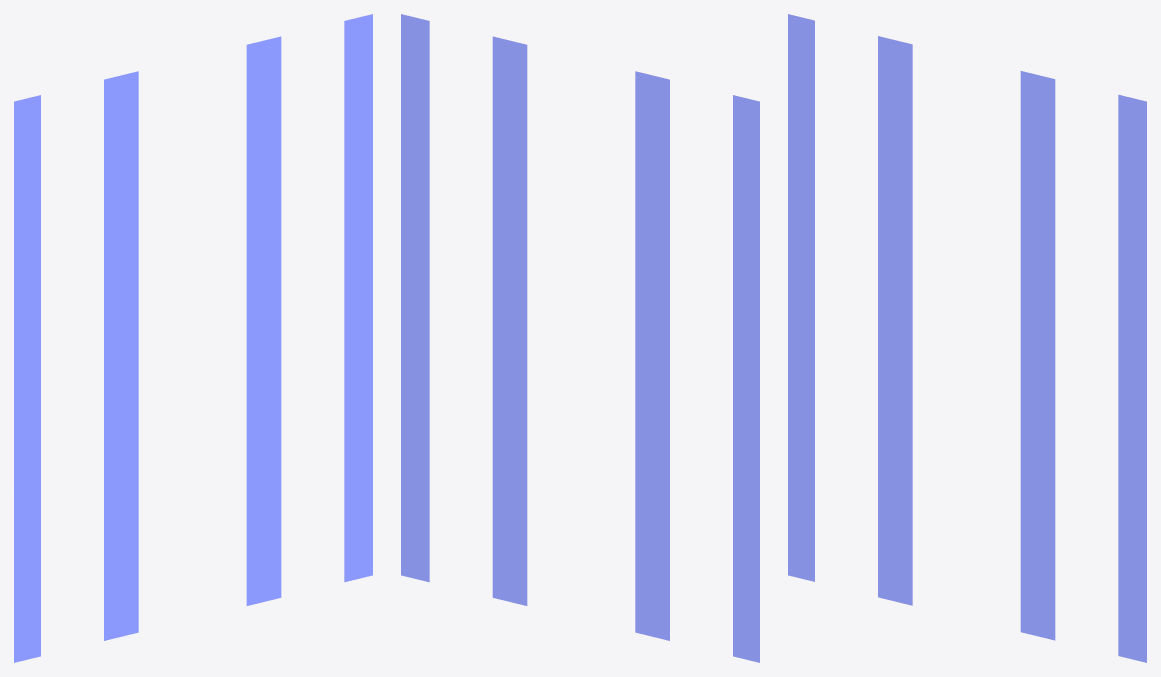
Rendered from entrecalles_selecc.glb.
The picture shows the model from 3 angles, left to right: view 1: azimuth 30°, elevation 25°; view 2: azimuth 150°, elevation 25°; view 3: azimuth 330°, elevation 25°; orthographic projection.
Visible parts, largest first — view 1: Entrecalles; view 2: Entrecalles; view 3: Entrecalles.
Boxes of the visible parts, bbox=[...] form: Entrecalles: bbox=[14, 14, 372, 662]; Entrecalles: bbox=[401, 14, 759, 662]; Entrecalles: bbox=[788, 14, 1146, 662].
Bounding box in the file's own units: 3.22 × 4.81 × 8.94e-08.
